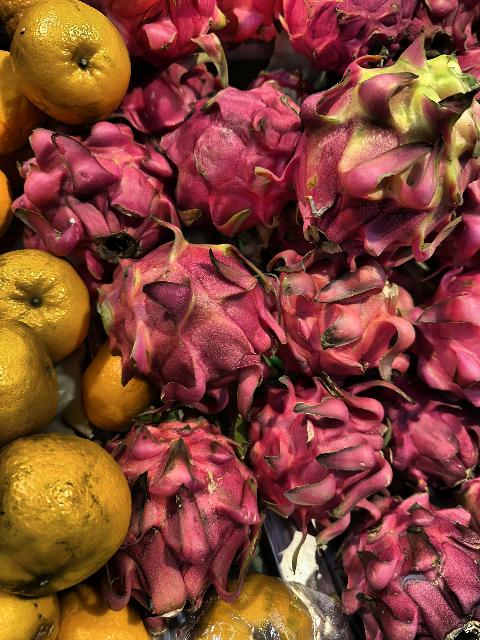buah-naga-belum-matang: (285, 55, 473, 264), (96, 224, 276, 394)
buah-naga-matang: (110, 408, 262, 610), (14, 113, 186, 277), (246, 374, 398, 518), (338, 492, 480, 640), (268, 233, 408, 381), (160, 82, 306, 222), (109, 0, 242, 106), (386, 376, 480, 500), (418, 265, 480, 421), (272, 0, 412, 68)
